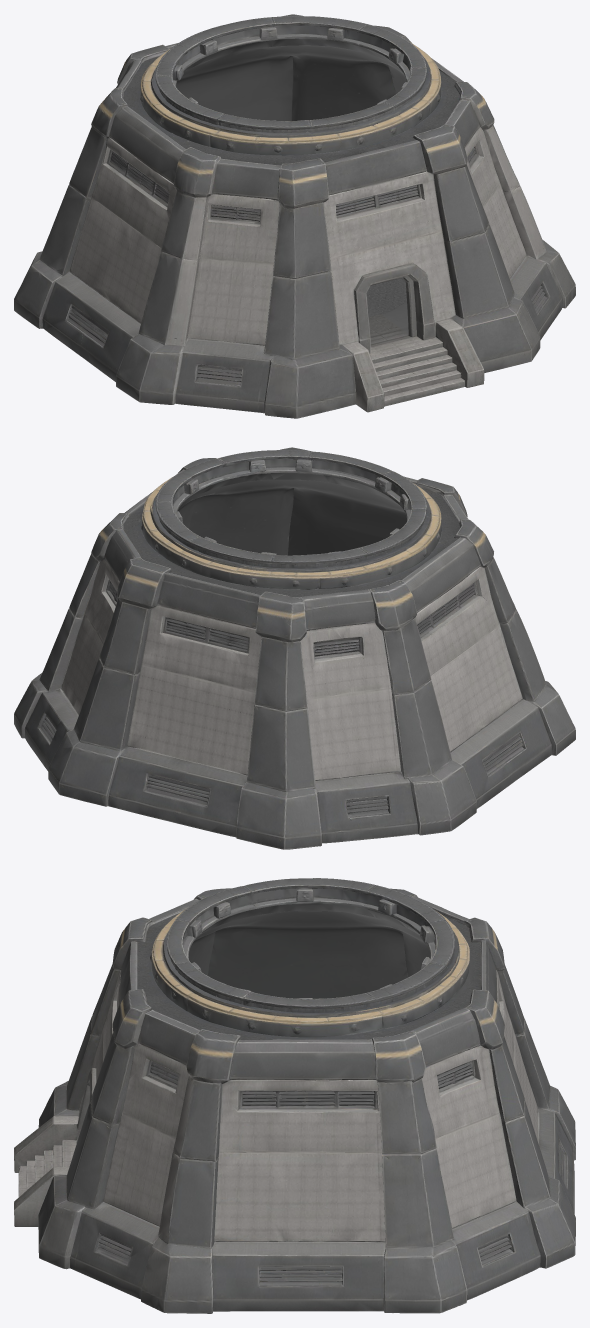
File: imperial_defence_battery.glb
3 views of the same model, one above another, from view 1: azimuth 30°, elevation 25°; view 2: azimuth 150°, elevation 25°; view 3: azimuth 270°, elevation 25° (orthographic). The views are drawn at different scales.
Visible parts, largest first — view 1: mesh_node; view 2: mesh_node; view 3: mesh_node.
Boxes of the visible parts, <box> form: mesh_node: <box>14,14,575,418</box>; mesh_node: <box>14,447,575,849</box>; mesh_node: <box>14,878,575,1313</box>.
Bounding box in the file's own units: 21.95 × 10.97 × 21.95.
1 material, 1 textured.
